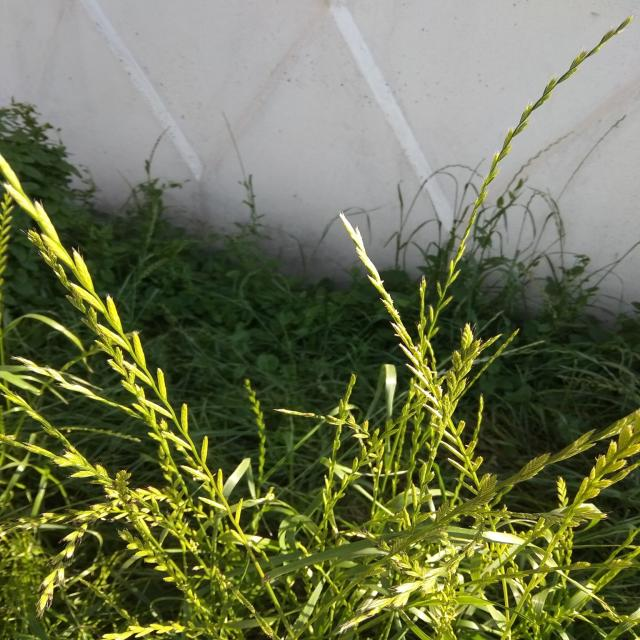Lolium: (8, 156, 294, 640), (392, 26, 636, 562), (338, 228, 529, 586)
